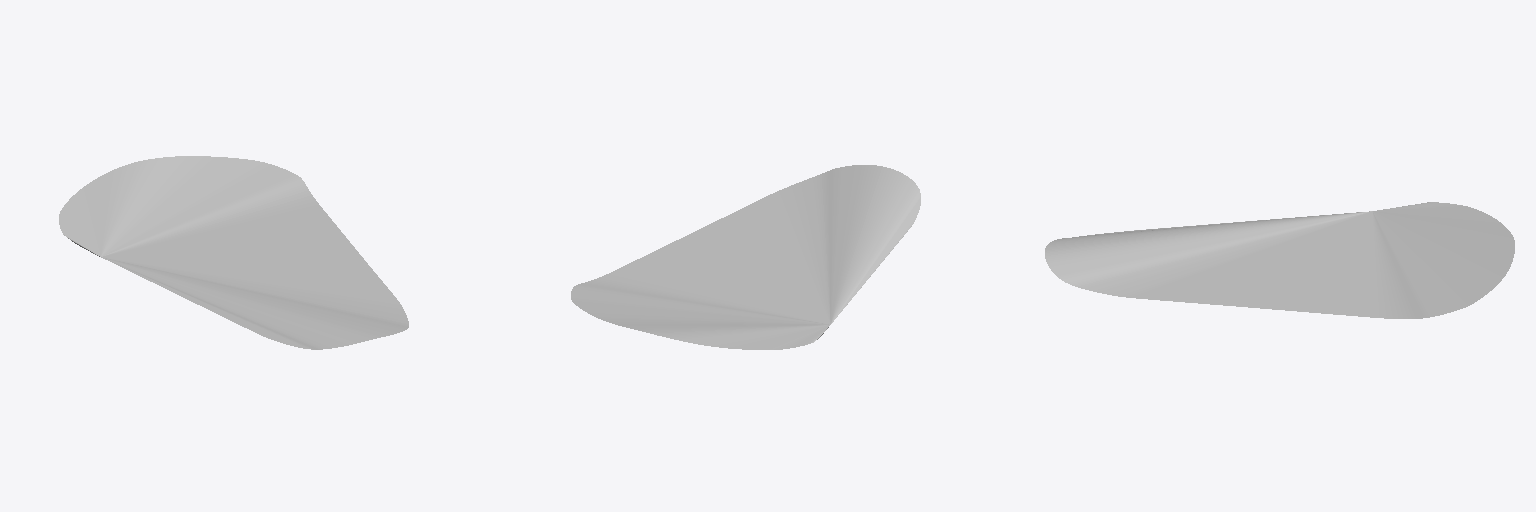
Rendered from AI_waypoints_3.obj.
3 views of the same model, side by side, from view 1: azimuth 30°, elevation 25°; view 2: azimuth 150°, elevation 25°; view 3: azimuth 270°, elevation 25° (orthographic).
Visible parts, largest first — view 1: Waypoints3_Waypoints1.004; view 2: Waypoints3_Waypoints1.004; view 3: Waypoints3_Waypoints1.004.
Boxes of the visible parts, <box> form: Waypoints3_Waypoints1.004: <box>59,156,408,349</box>; Waypoints3_Waypoints1.004: <box>571,165,920,349</box>; Waypoints3_Waypoints1.004: <box>1045,202,1514,318</box>.
Size of the model in its own units: 173 by 11.77 by 298.